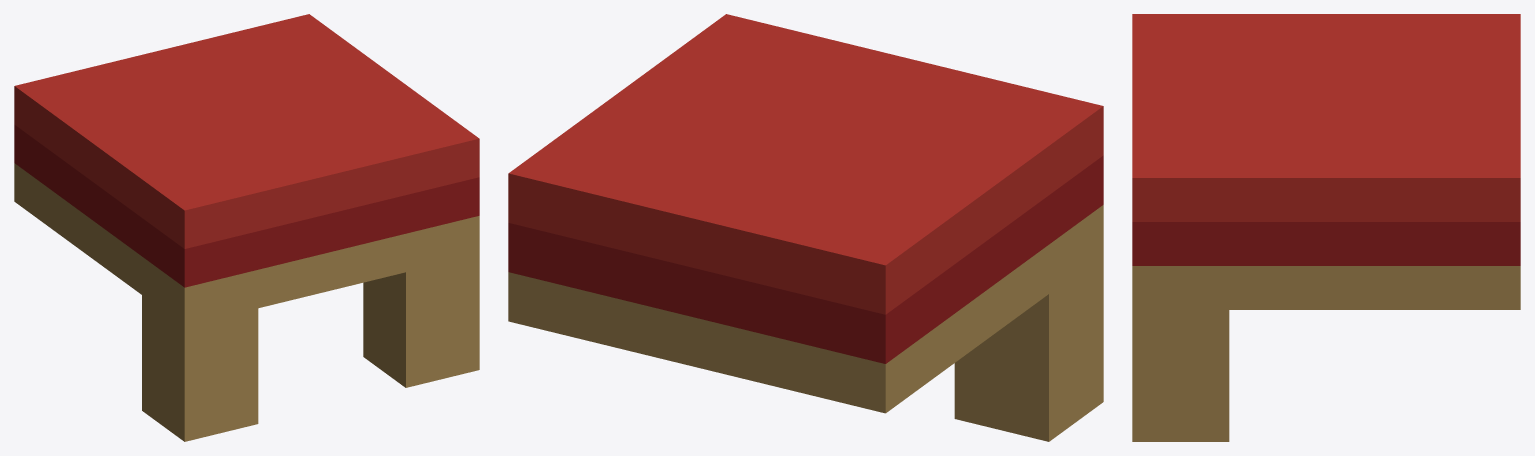
File: Red Bed.glb
3 renders of one model, left to right at view 1: azimuth 30°, elevation 25°; view 2: azimuth 150°, elevation 25°; view 3: azimuth 270°, elevation 25°, orthographic. The views are drawn at different scales.
Parts seen in each view (by area): view 1: Untitled; view 2: Untitled; view 3: Untitled.
Part boxes in pixels (bbox=[...]): Untitled: bbox=[14, 14, 479, 441]; Untitled: bbox=[508, 14, 1103, 441]; Untitled: bbox=[1132, 14, 1520, 441].
Size of the model in its own units: 1.6 by 1.2 by 1.6.
Materials: 1 (1 with a texture image).
